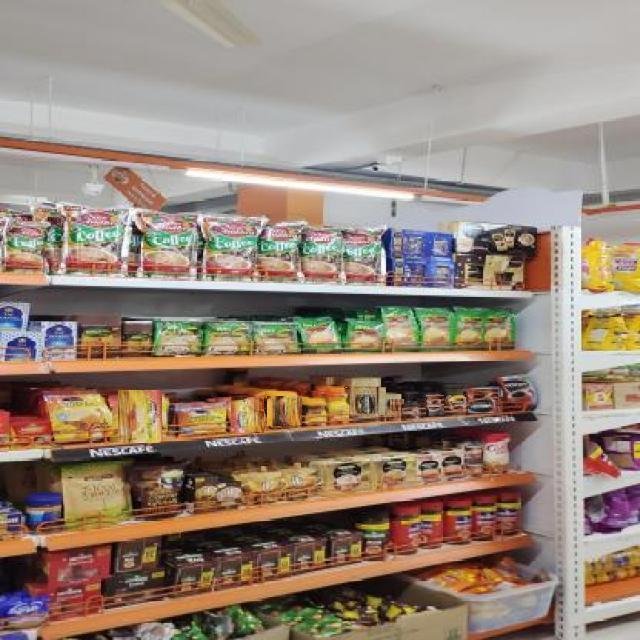Coffee: (50, 390, 111, 441), (118, 391, 162, 443), (231, 396, 264, 433), (343, 387, 386, 414), (267, 395, 302, 426), (504, 378, 537, 410), (467, 389, 498, 413), (331, 388, 350, 424), (304, 401, 326, 425), (379, 398, 404, 415), (425, 395, 444, 417), (402, 405, 418, 417)
